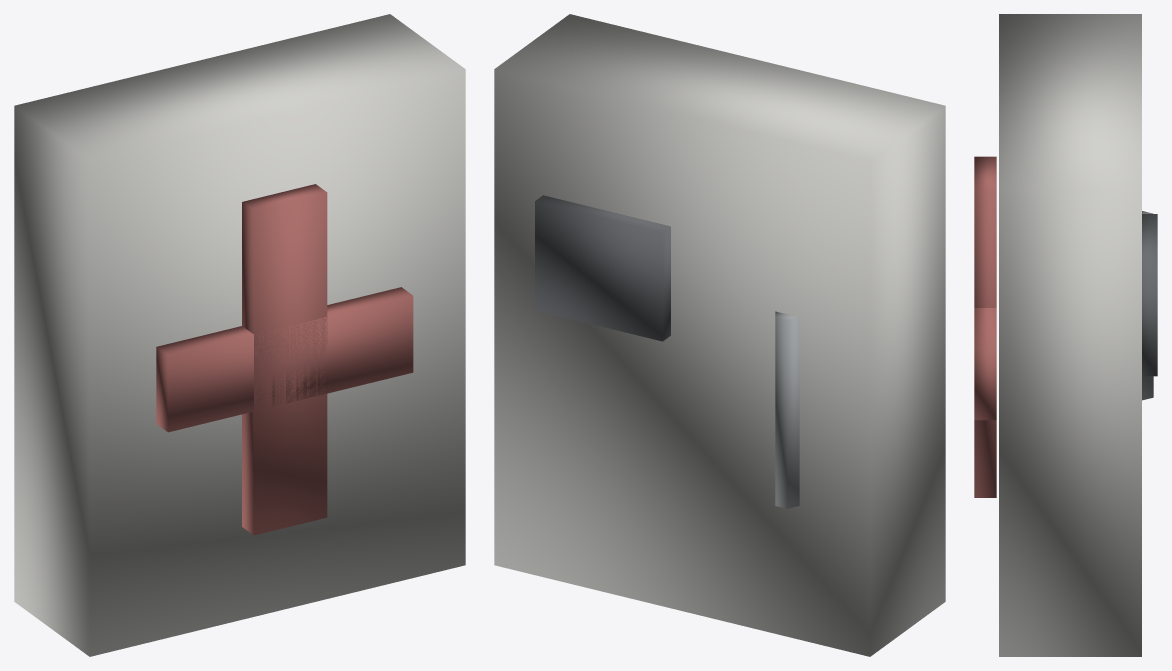
Rendered from first_aid_wall_cabinet__service.glb.
3 views of the same model, side by side, from view 1: azimuth 30°, elevation 25°; view 2: azimuth 150°, elevation 25°; view 3: azimuth 270°, elevation 25° (orthographic). The views are drawn at different scales.
Visible parts, largest first — view 1: world; view 2: world; view 3: world.
Part boxes in pixels (x1=…): world: x1=14, y1=14, x2=465, y2=656; world: x1=494, y1=14, x2=945, y2=656; world: x1=974, y1=14, x2=1157, y2=656.
Bounding box in the file's own units: 0.46 × 0.58 × 0.205.
